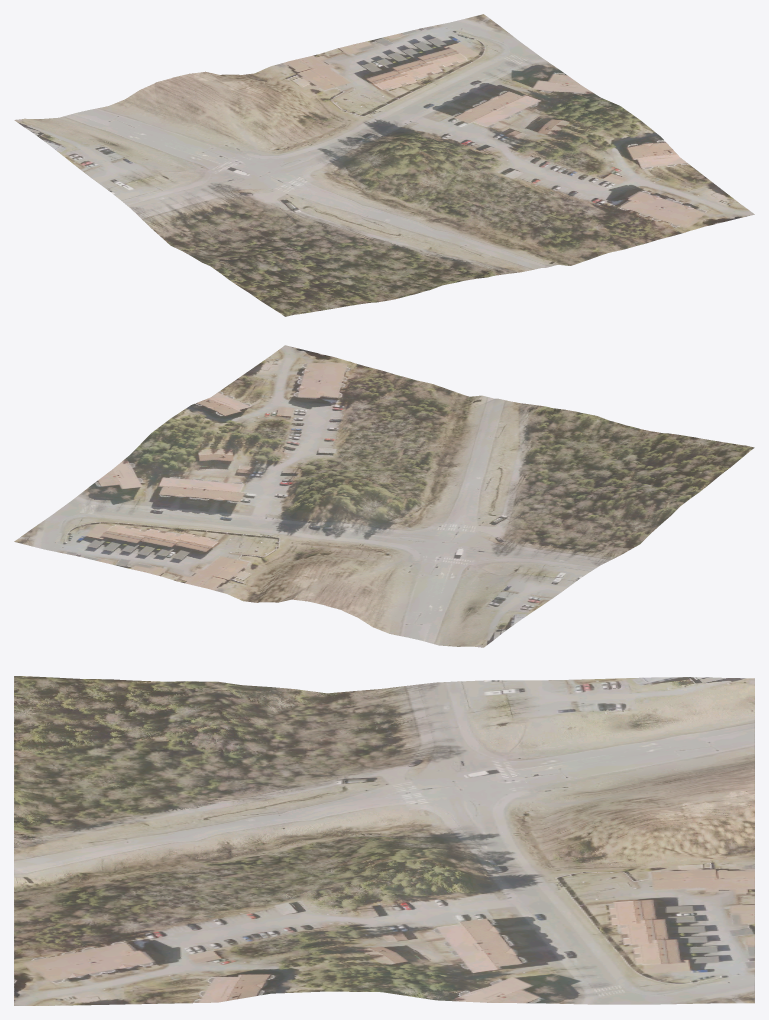
Rendered from CM_Terrain_24492506_6814674.fbx.
3 renders of one model, top to bottom at view 1: azimuth 30°, elevation 25°; view 2: azimuth 150°, elevation 25°; view 3: azimuth 270°, elevation 25°, orthographic. The views are drawn at different scales.
Visible parts, largest first — view 1: CM_Terrain_24492506_6814674_LOD0; view 2: CM_Terrain_24492506_6814674_LOD0; view 3: CM_Terrain_24492506_6814674_LOD0.
Part boxes in pixels (<box>): CM_Terrain_24492506_6814674_LOD0: <box>14,14,754,316</box>; CM_Terrain_24492506_6814674_LOD0: <box>14,345,754,647</box>; CM_Terrain_24492506_6814674_LOD0: <box>14,676,754,1005</box>.
Size of what is drawn, in the model's own units: 205 by 8.68 by 205.
